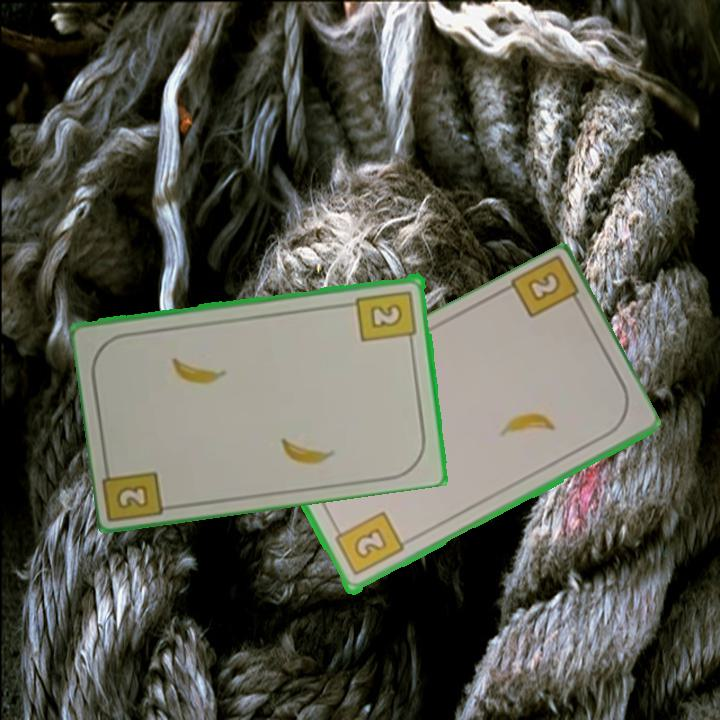2b: (330, 508, 407, 579), (505, 256, 587, 322), (353, 286, 420, 348), (112, 480, 152, 512)
